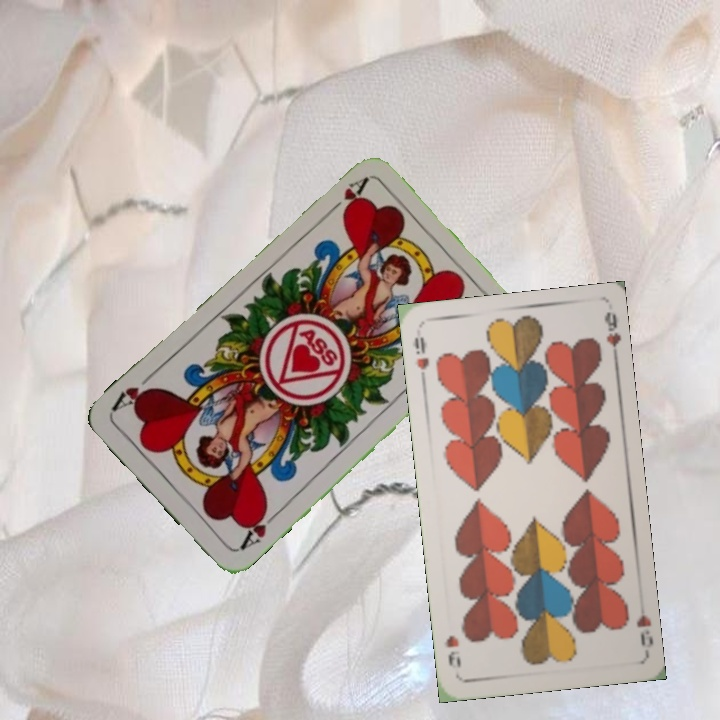H9: (409, 332, 432, 386), (633, 610, 654, 648)
HA: (235, 504, 282, 553), (322, 174, 370, 219)
